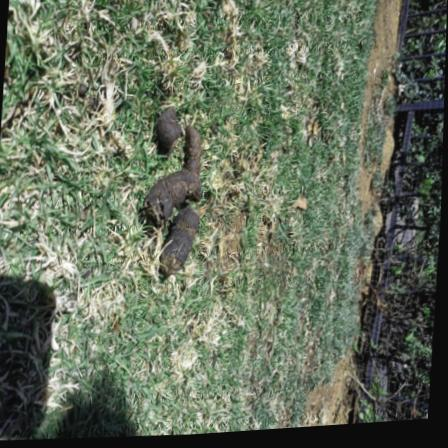dog-poop: (134, 104, 216, 292)
